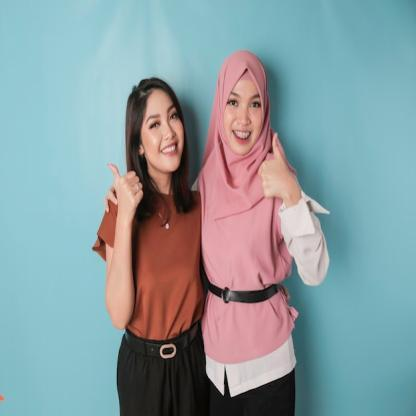thumb_up: (257, 132, 293, 203), (107, 160, 144, 218)
